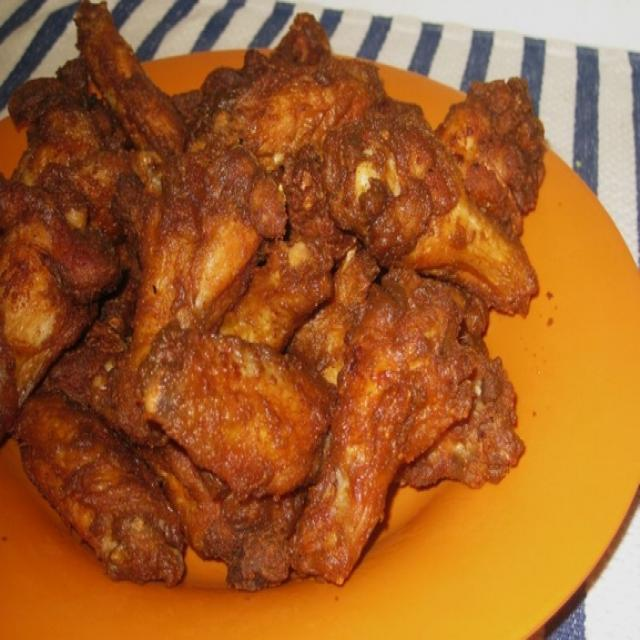Deep fried chicken wing: (14, 49, 562, 555)
